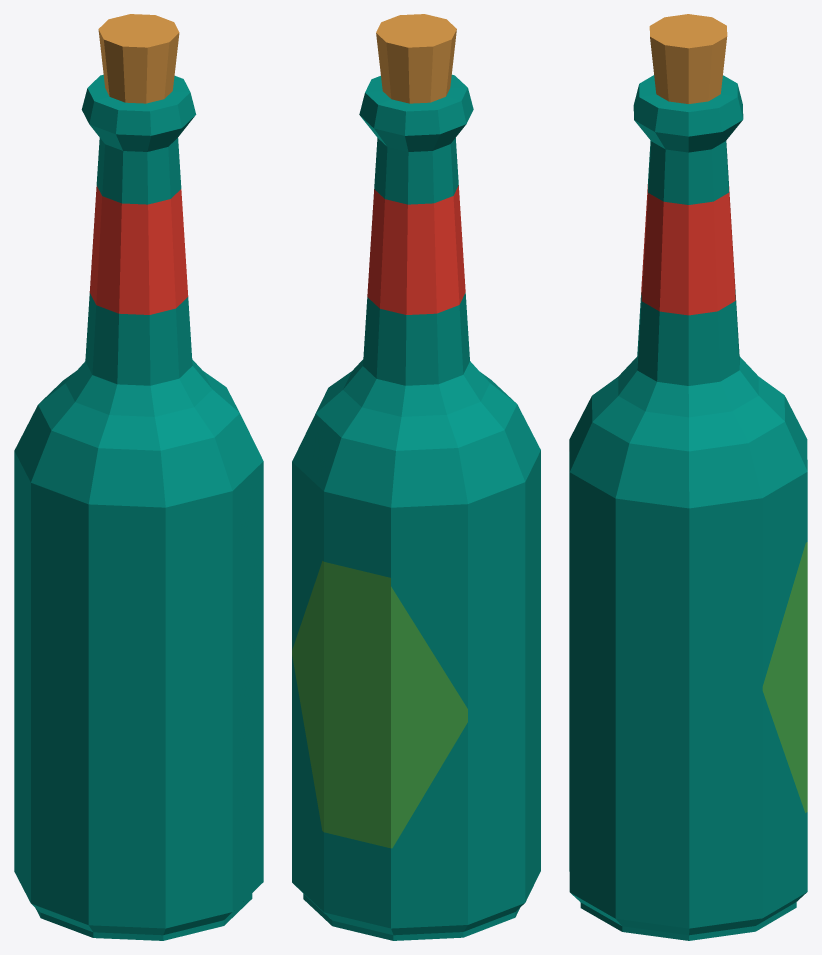
Rendered from bottle-by-don-carson-I8yNayAGFu.glb.
The picture shows the model from 3 angles, left to right: view 1: azimuth 30°, elevation 25°; view 2: azimuth 150°, elevation 25°; view 3: azimuth 270°, elevation 25°; orthographic projection.
Visible parts, largest first — view 1: bottle; view 2: bottle; view 3: bottle.
Boxes of the visible parts, x1,y1,x2,y2 form: bottle: (14, 14, 263, 940); bottle: (292, 14, 540, 940); bottle: (569, 14, 807, 940).
Size of the model in its own units: 0.1537 by 0.5841 by 0.1464.
